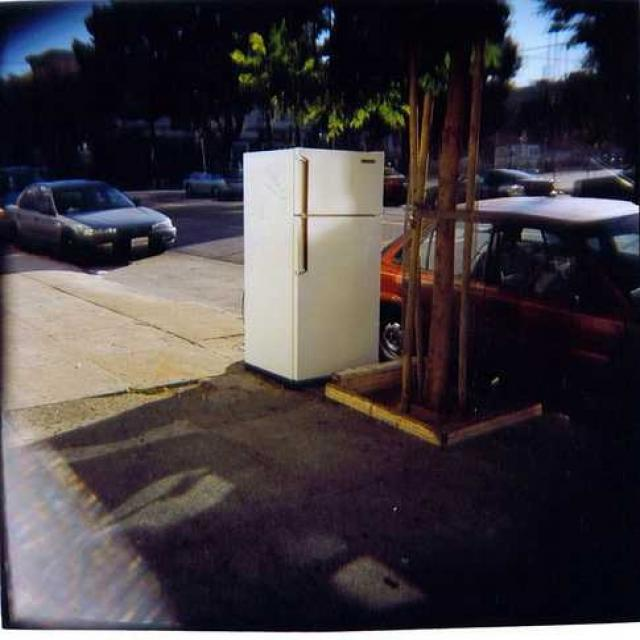refrigerator: (294, 148, 386, 384)
